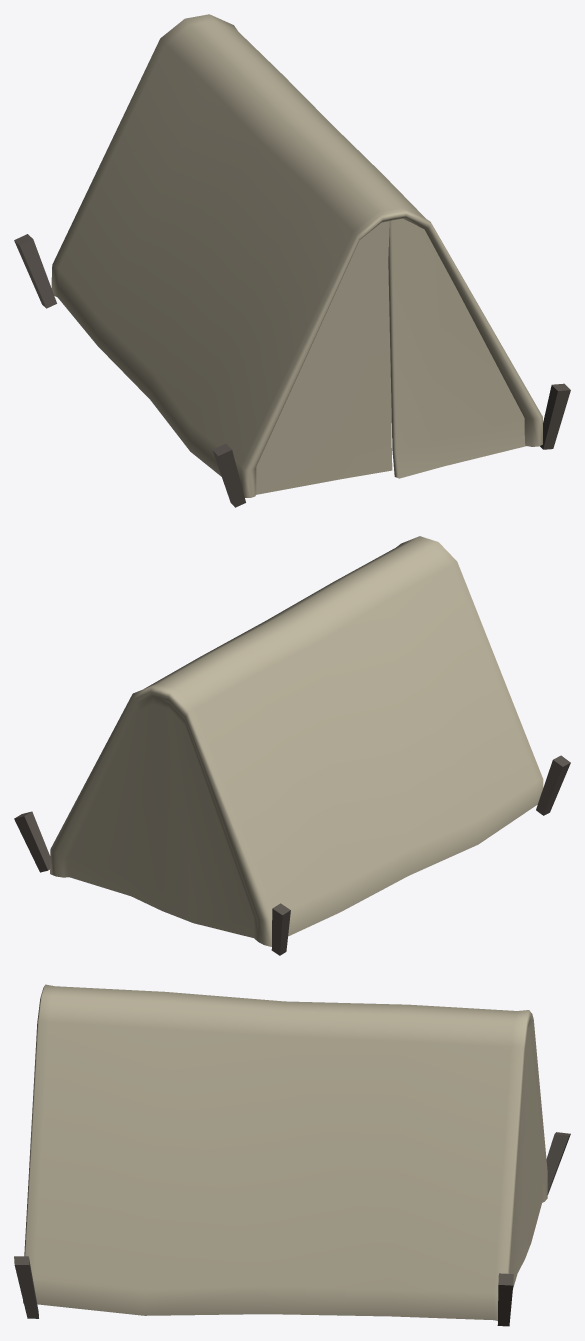
The model's file is Tent.fbx.
3 views of the same model, one above another, from view 1: azimuth 30°, elevation 25°; view 2: azimuth 150°, elevation 25°; view 3: azimuth 270°, elevation 25° (orthographic). The views are drawn at different scales.
Visible parts, largest first — view 1: Shell, Flap_R, Flap_L, TentStake3, TentStake1, TentStake; view 2: Shell, TentStake2, TentStake, TentStake3; view 3: Shell, TentStake1, TentStake2, TentStake3.
Boxes of the visible parts, x1,y1,x2,y2 form: Shell: (51, 14, 542, 497); Flap_R: (388, 218, 526, 478); Flap_L: (256, 221, 392, 494); TentStake3: (14, 234, 56, 308); TentStake1: (540, 383, 570, 449); TentStake: (212, 443, 245, 507); Shell: (50, 536, 543, 946); TentStake2: (14, 811, 50, 872); TentStake: (536, 755, 570, 815); TentStake3: (271, 903, 290, 955); Shell: (23, 984, 547, 1320); TentStake1: (14, 1256, 38, 1318); TentStake2: (497, 1273, 513, 1326); TentStake3: (546, 1132, 570, 1194).
Bounding box in the file's own units: 436 × 281 × 550.
